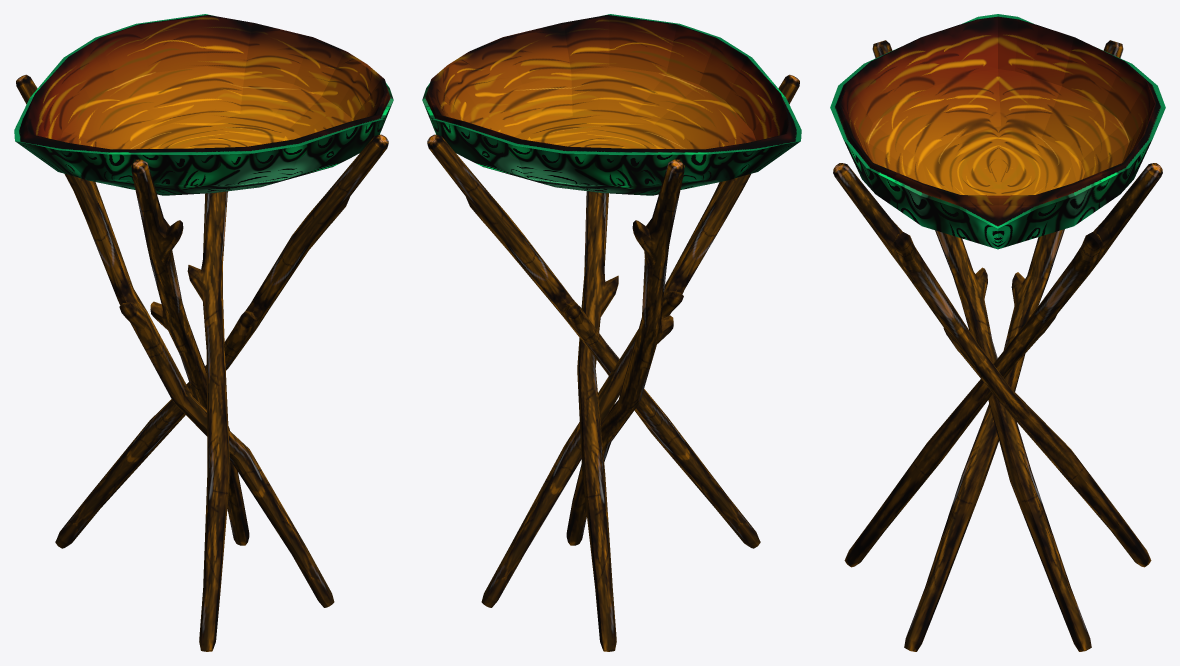
The model's file is WasserSammler.fbx.
3 views of the same model, side by side, from view 1: azimuth 30°, elevation 25°; view 2: azimuth 150°, elevation 25°; view 3: azimuth 270°, elevation 25° (orthographic).
Parts seen in each view (by area): view 1: Cube, Cube.001; view 2: Cube, Cube.001; view 3: Cube, Cube.001.
Part boxes in pixels (box(x1,y1,x2,y2)): Cube: box(14, 14, 393, 195); Cube.001: box(16, 74, 388, 651); Cube: box(422, 14, 801, 195); Cube.001: box(427, 74, 799, 651); Cube: box(830, 14, 1165, 249); Cube.001: box(833, 40, 1162, 651).
Size of the model in its own units: 562 by 739 by 437.
